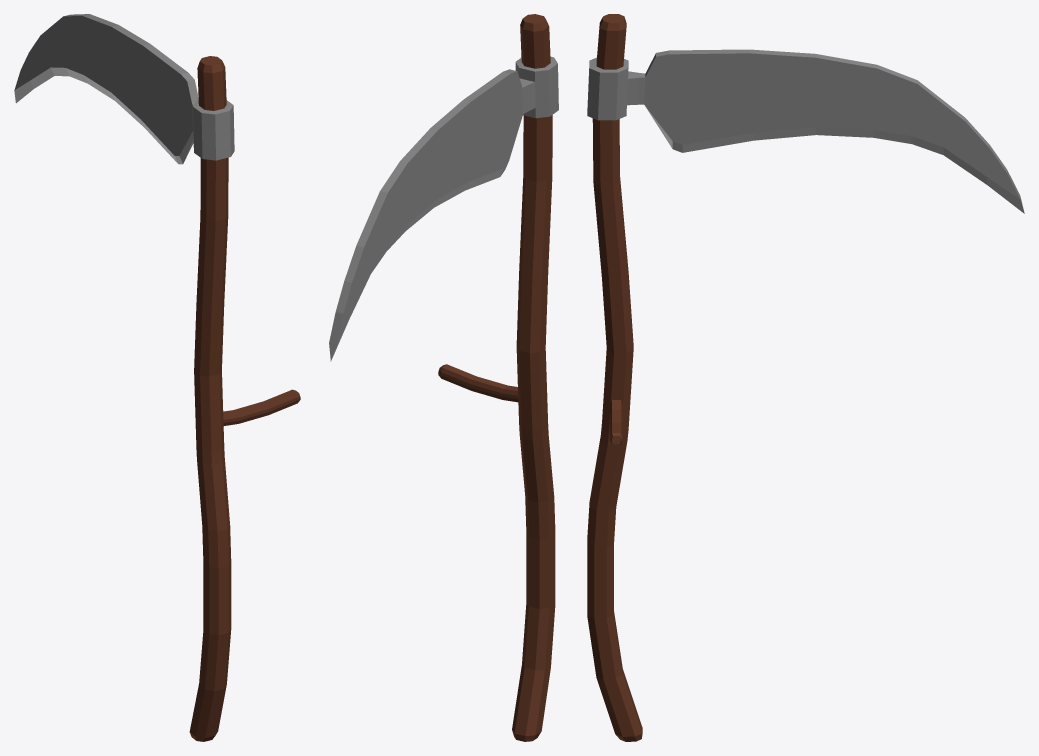
Rendered from Low Poly Scythe.fbx.
3 views of the same model, side by side, from view 1: azimuth 30°, elevation 25°; view 2: azimuth 150°, elevation 25°; view 3: azimuth 270°, elevation 25° (orthographic). The views are drawn at different scales.
Parts seen in each view (by area): view 1: Cube; view 2: Cube; view 3: Cube.
Part boxes in pixels (x1,y1,x2,y2): Cube: [14, 14, 300, 741]; Cube: [329, 14, 558, 741]; Cube: [587, 14, 1024, 741].
Size of the model in its own units: 343 by 2127 by 1173.
